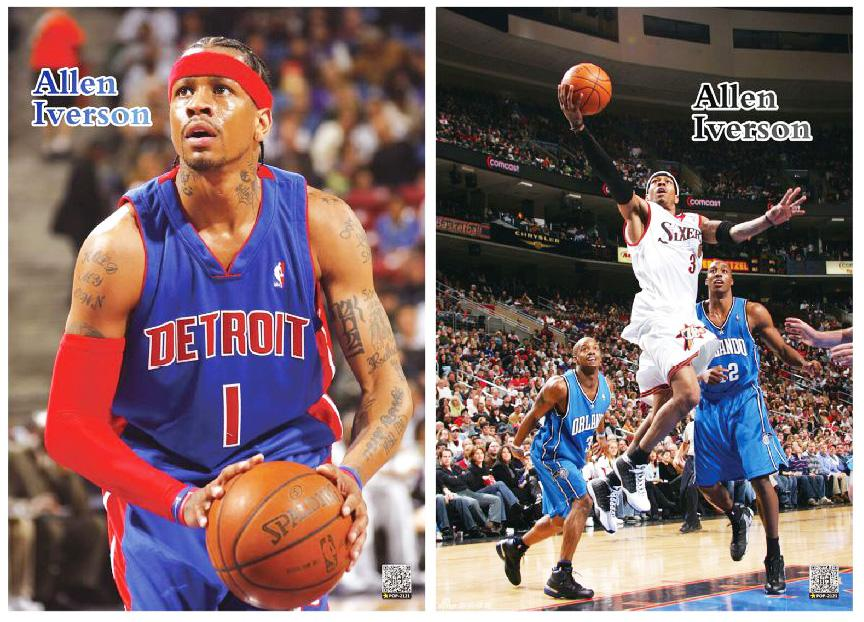ball: (203, 458, 362, 610), (560, 61, 615, 117)
